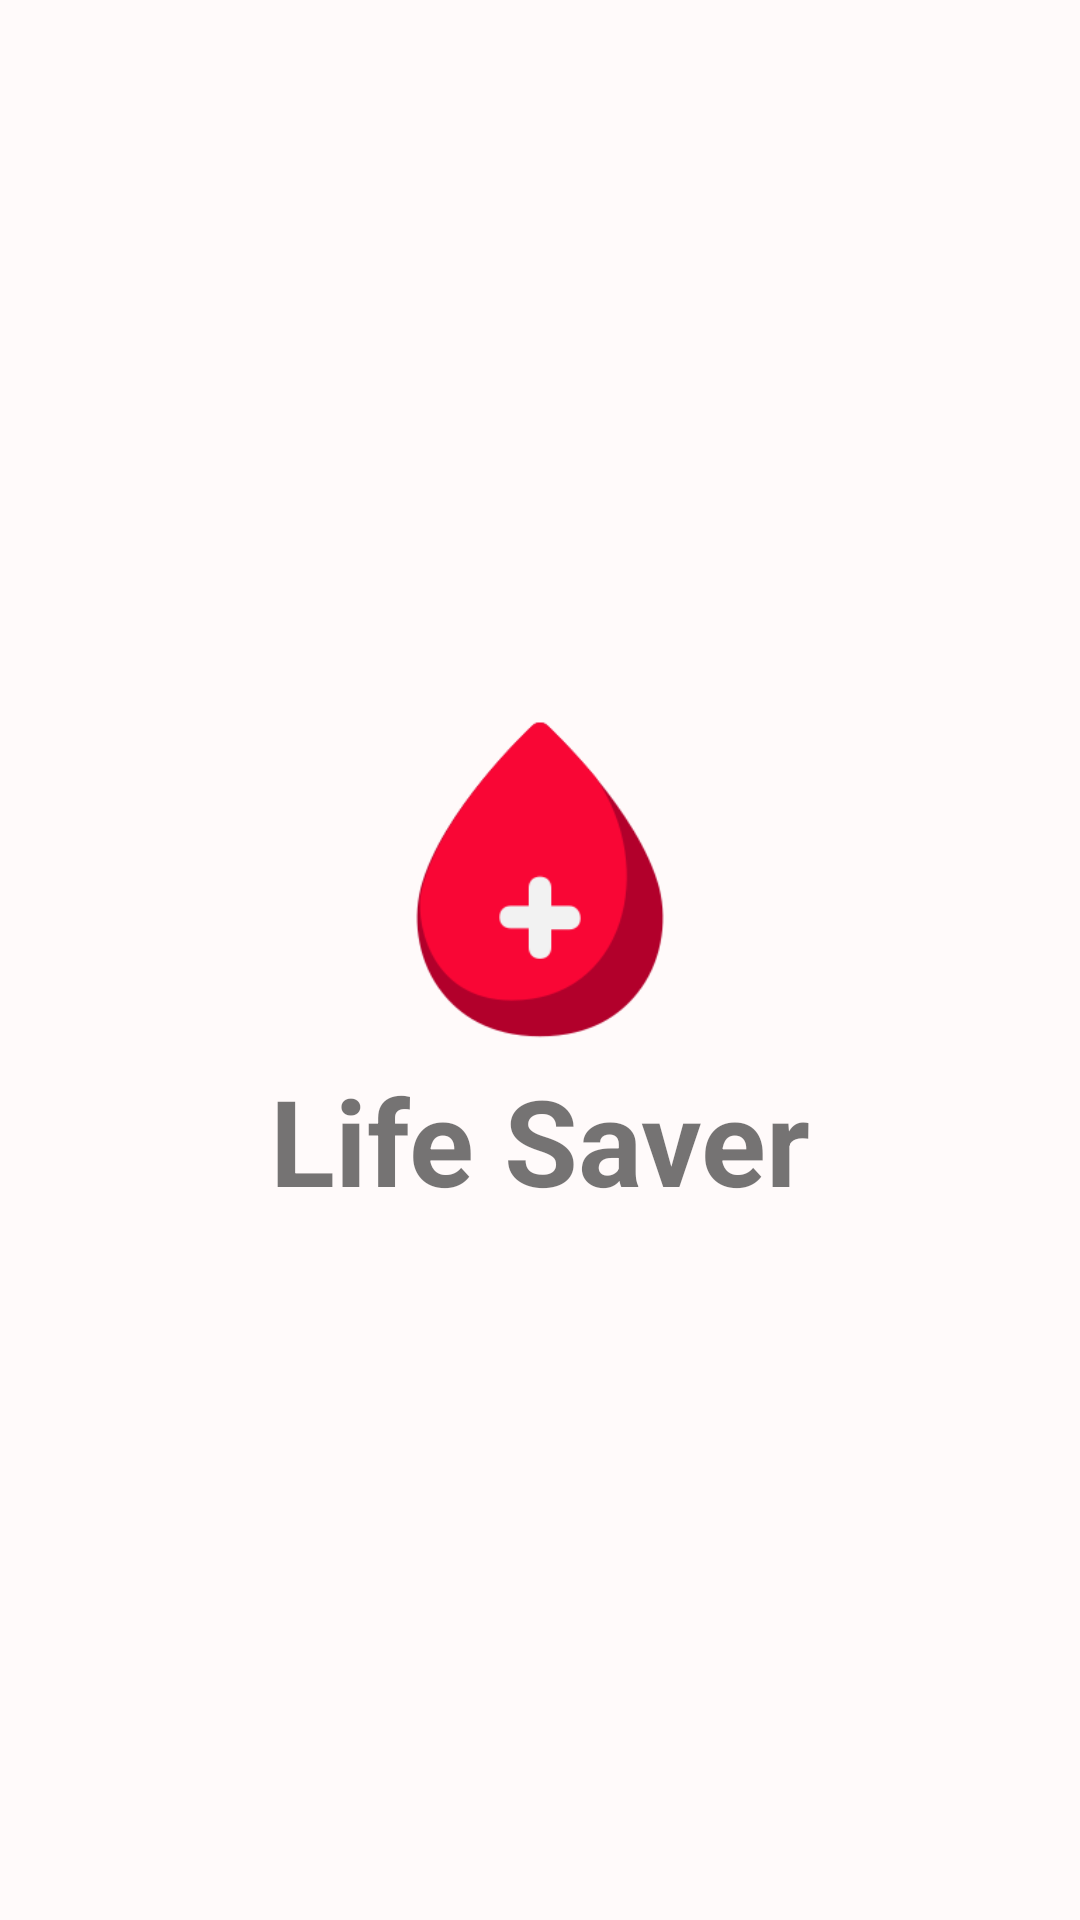

Icon click points for this 1080×1920 phone screenshot, format point (x, y):
blood: point (540, 880)
